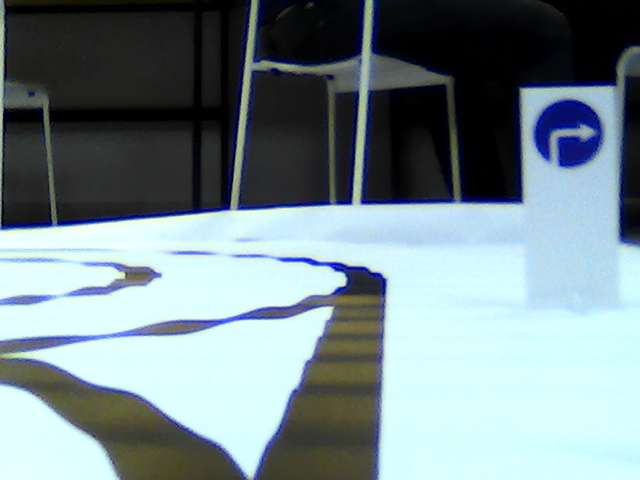Right: (534, 95, 607, 169)
